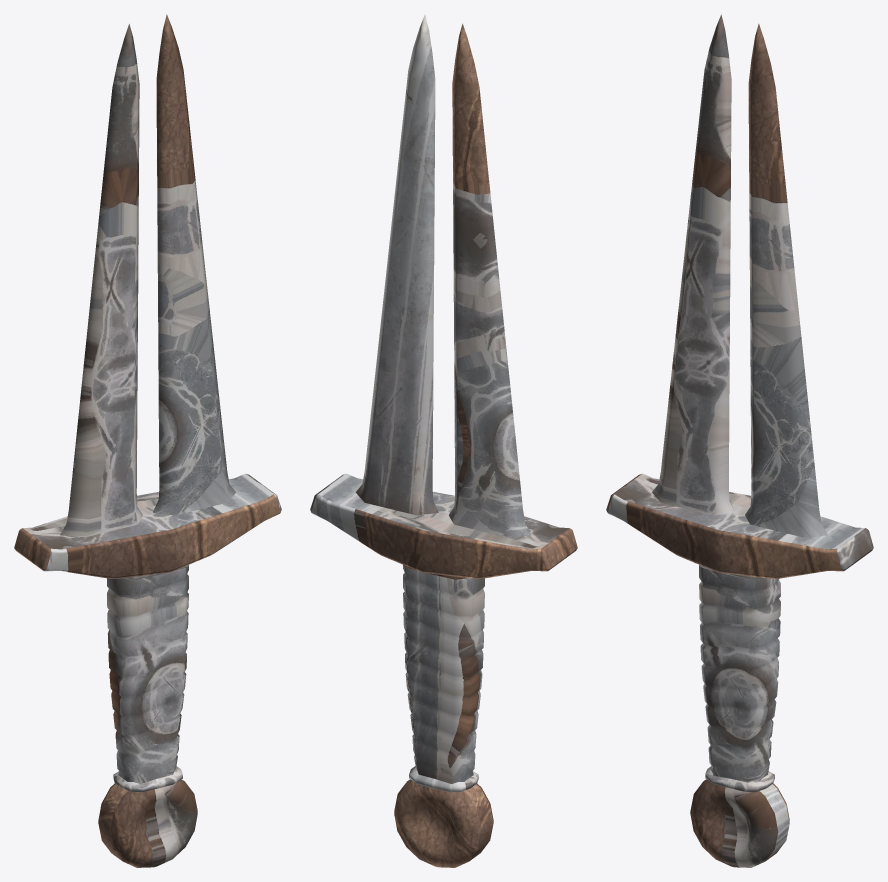
3 renders of one model, left to right at view 1: azimuth 30°, elevation 25°; view 2: azimuth 150°, elevation 25°; view 3: azimuth 330°, elevation 25°, orthographic.
Parts seen in each view (by area): view 1: SM_Dagger_Iron_1H_01_LOD0; view 2: SM_Dagger_Iron_1H_01_LOD0; view 3: SM_Dagger_Iron_1H_01_LOD0.
Part boxes in pixels (left/top/right/bottom): SM_Dagger_Iron_1H_01_LOD0: left=14, top=14, right=281, bottom=867; SM_Dagger_Iron_1H_01_LOD0: left=310, top=14, right=577, bottom=867; SM_Dagger_Iron_1H_01_LOD0: left=606, top=14, right=873, bottom=867.
Size of the model in its own units: 0.1557 by 0.5237 by 0.0532.
